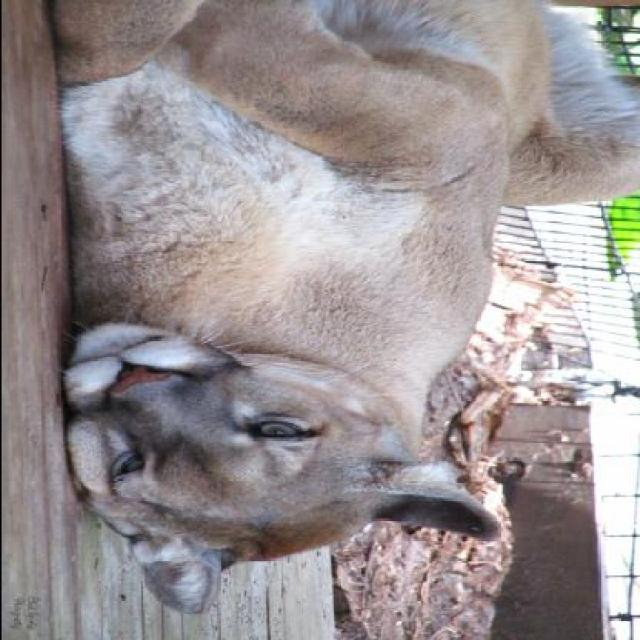Lion: (44, 5, 636, 623)
